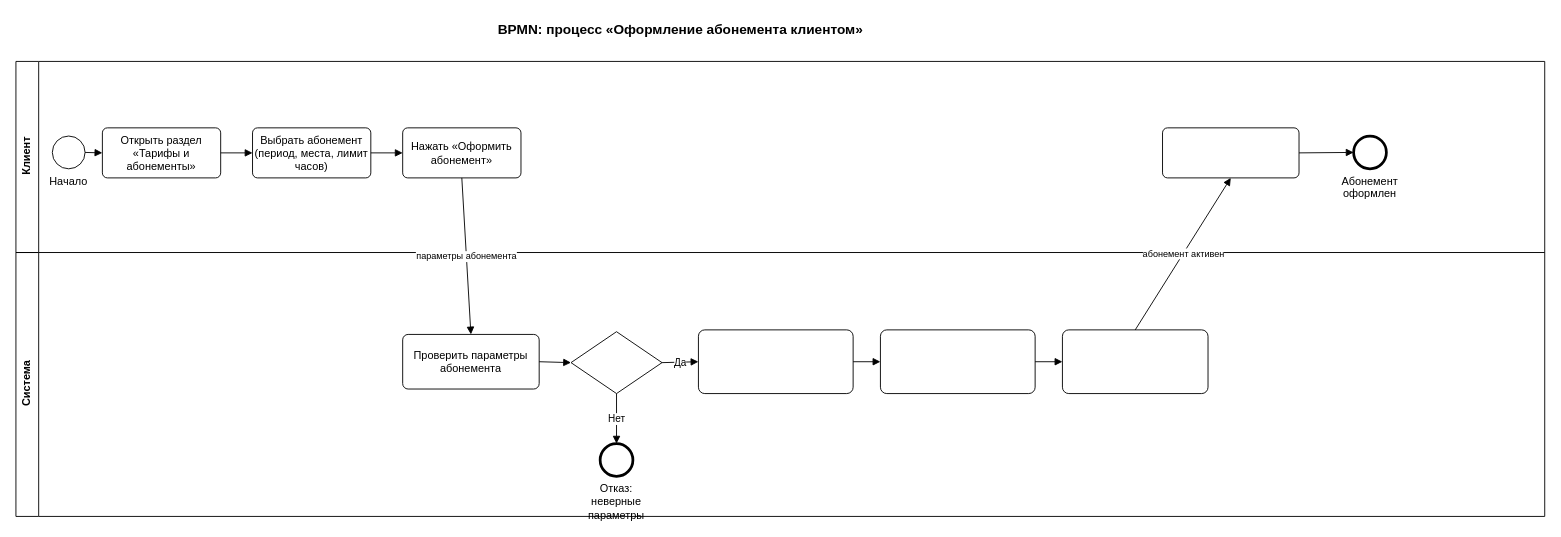
The diagram is 1561 pixels wide and 537 high, and some of its shapes have lost their labels. The centre of each missing label's shape, as x and y in pixels:
"Параметры корректны?" goes at (616,362).
"Перевести клиента в режим «по абонементу»" goes at (957,361).
"Просмотр активного абонемента" goes at (1230,152).
"Создать абонемент (даты действия, лимит часов)" goes at (775,361).
"Сохранить абонемент в БД" goes at (1135,361).
